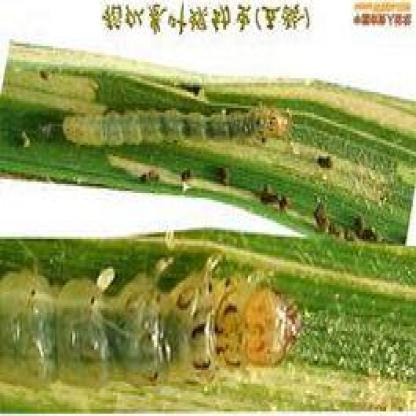leaf-folder: (0, 240, 294, 380), (40, 94, 299, 162)
